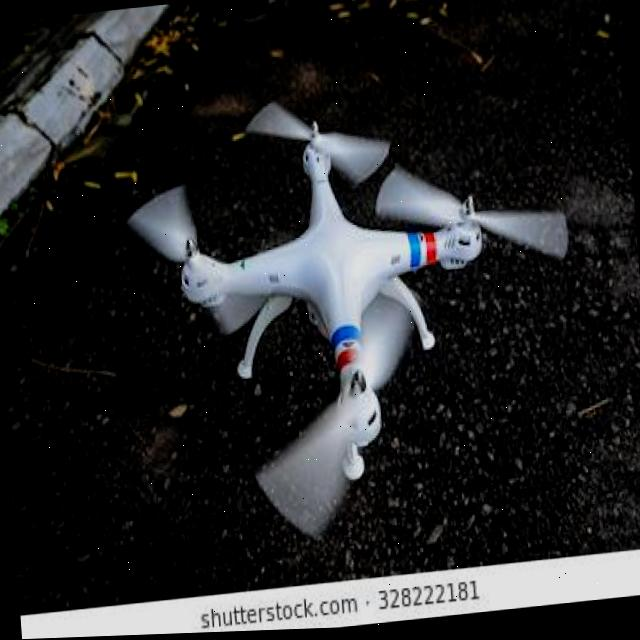drone: (0, 73, 640, 640)
